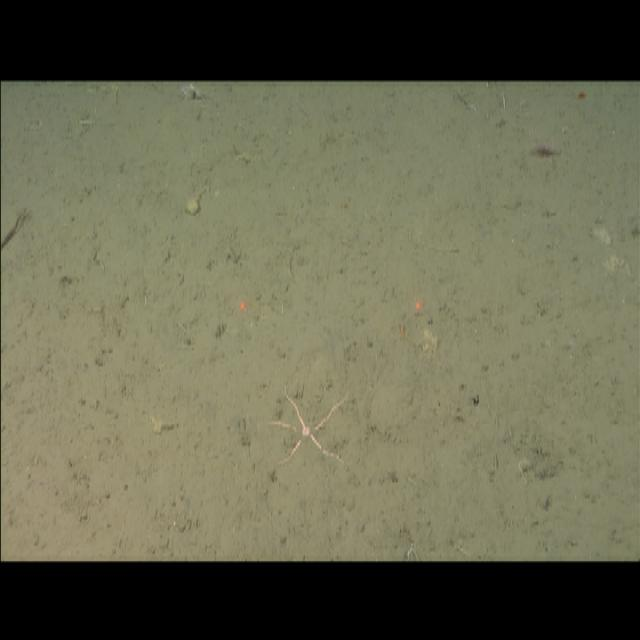Brittle Star: (268, 376, 354, 476)
Not Brittle Star: (530, 134, 559, 161)
